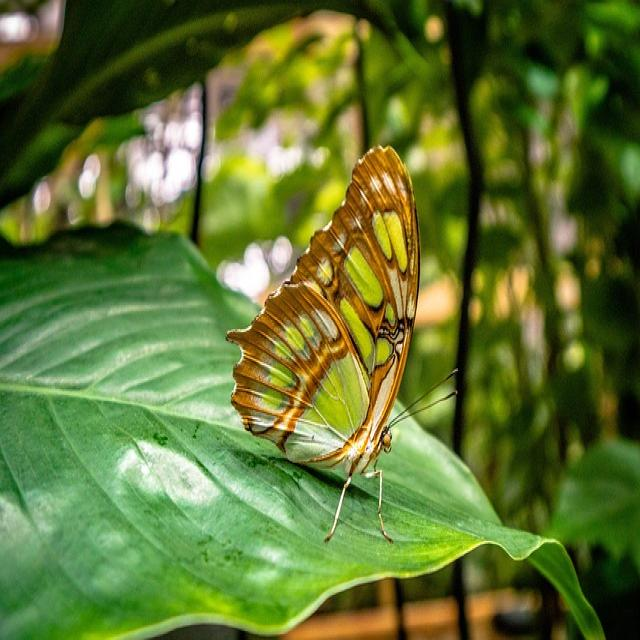butterfly: (226, 146, 420, 542)
